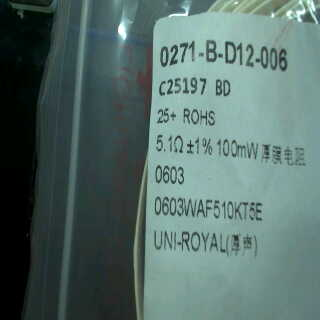5.1R: (153, 131, 186, 154)
